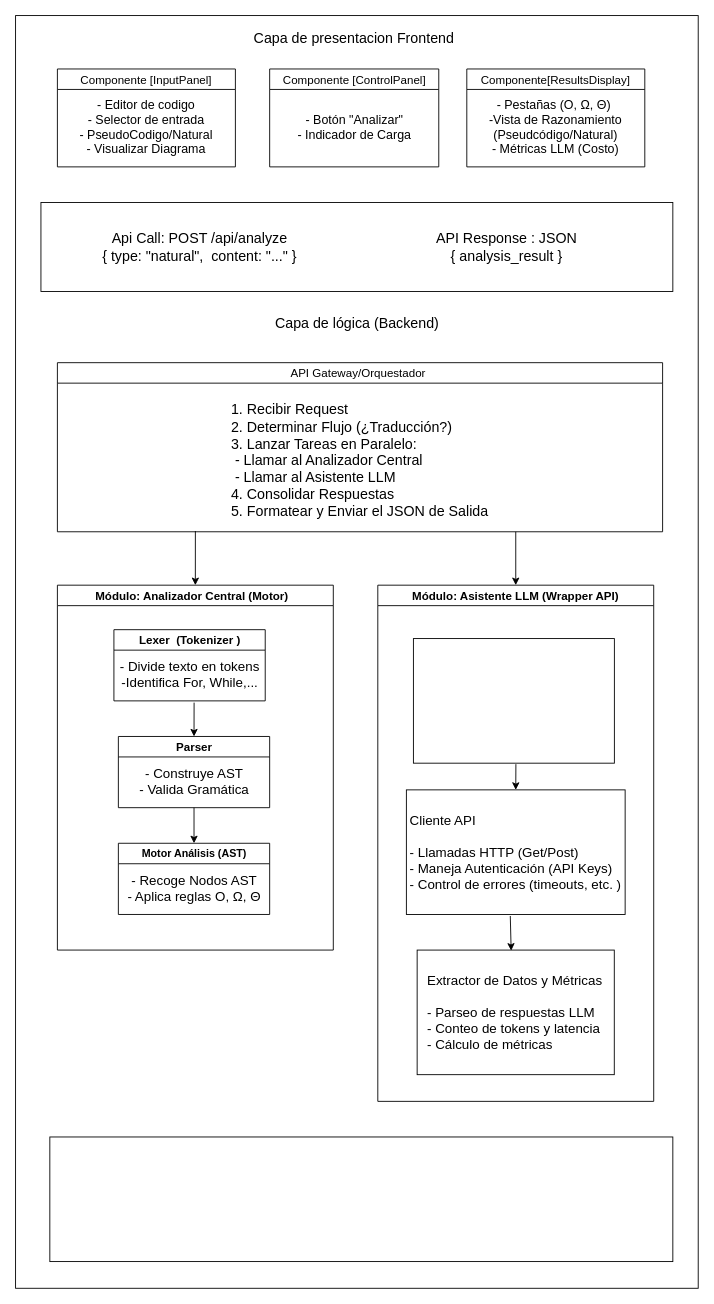
Some shapes in this 714 by 1304 pixel diagram are drawn without their labels. The centre of each missing label's shape, as x and y in pixels:
"CAPA DE SERVICIOS EXTERNOS [API De LLM: Gemini / Open AI]" goes at point (361, 1199).
"Gestor de Prompts - Plantillas (Traducir, Validar, ...) - Ingeniería de Prompts" goes at point (513, 700).
